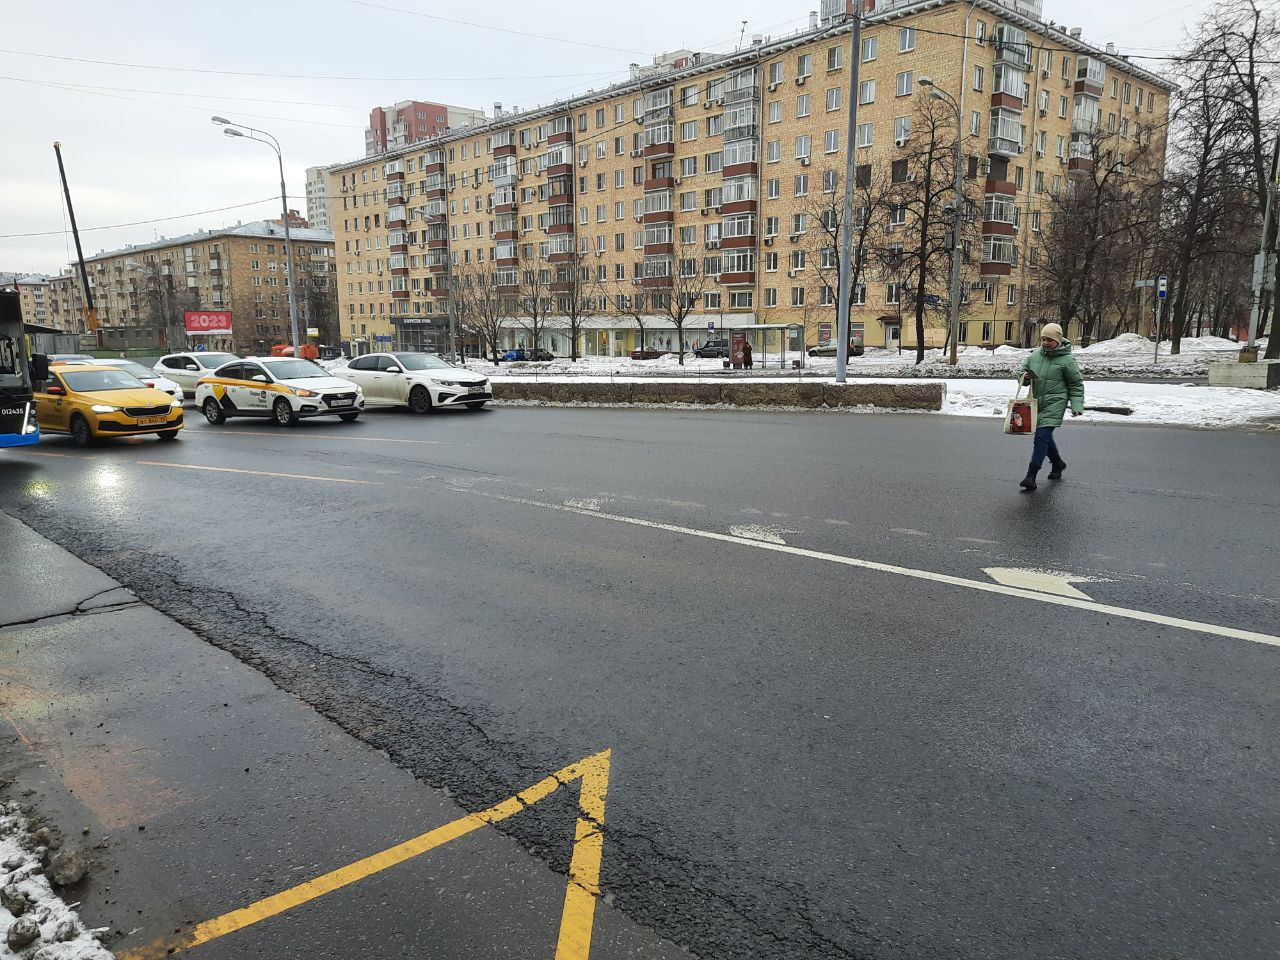sombie: (1003, 297, 1104, 512)
